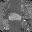people: (8, 12, 22, 20)
